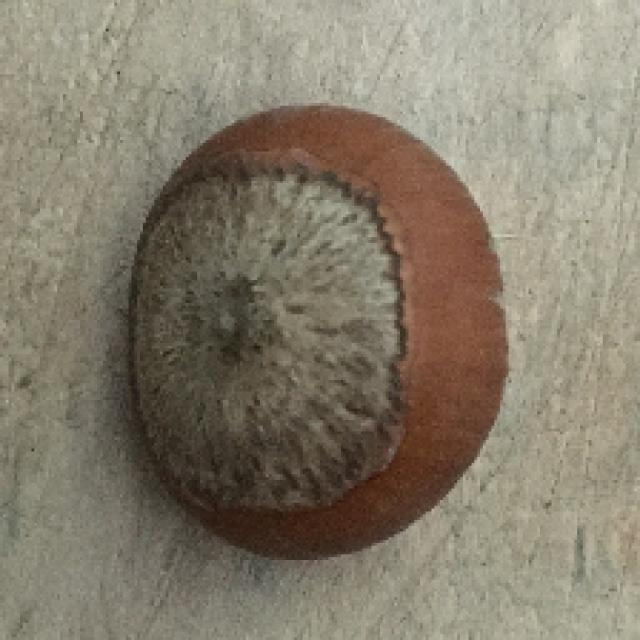qualityHazelnut: (117, 96, 508, 571)
